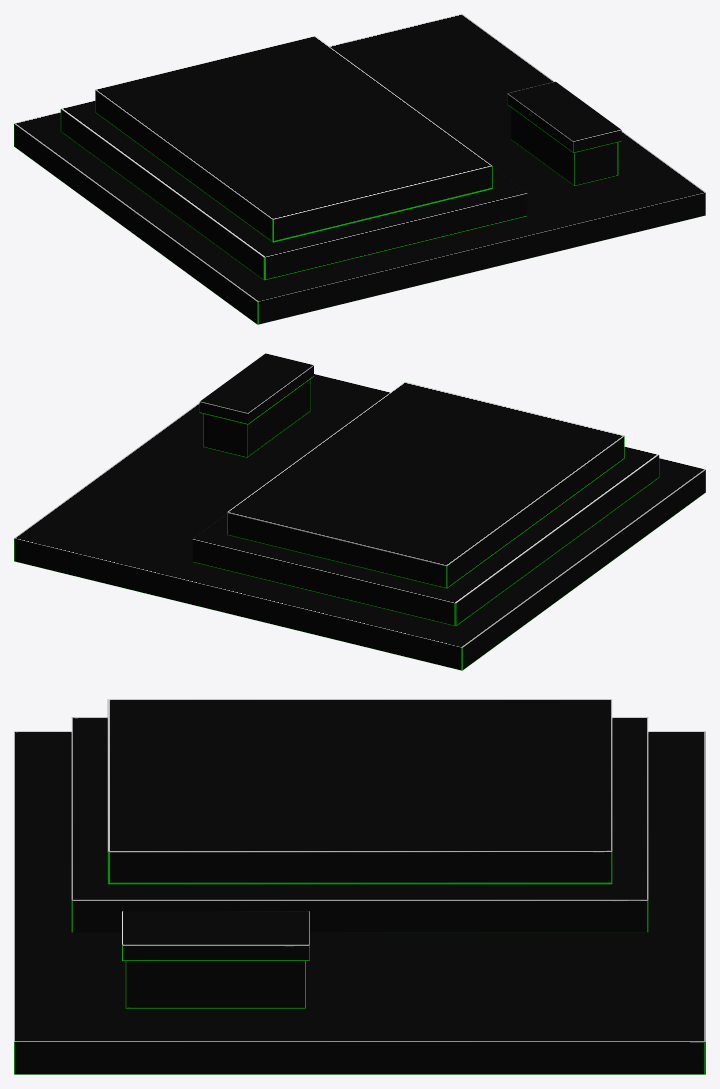
Rendered from shrineUpgrade.fbx.
3 renders of one model, top to bottom at view 1: azimuth 30°, elevation 25°; view 2: azimuth 150°, elevation 25°; view 3: azimuth 270°, elevation 25°, orthographic. The views are drawn at different scales.
Visible parts, largest first — view 1: Box001; view 2: Box001; view 3: Box001.
Part boxes in pixels (bbox=[...]): Box001: bbox=[14, 14, 705, 324]; Box001: bbox=[14, 353, 705, 670]; Box001: bbox=[14, 699, 705, 1074].
Size of the model in its own units: 204 by 30.08 by 192.
